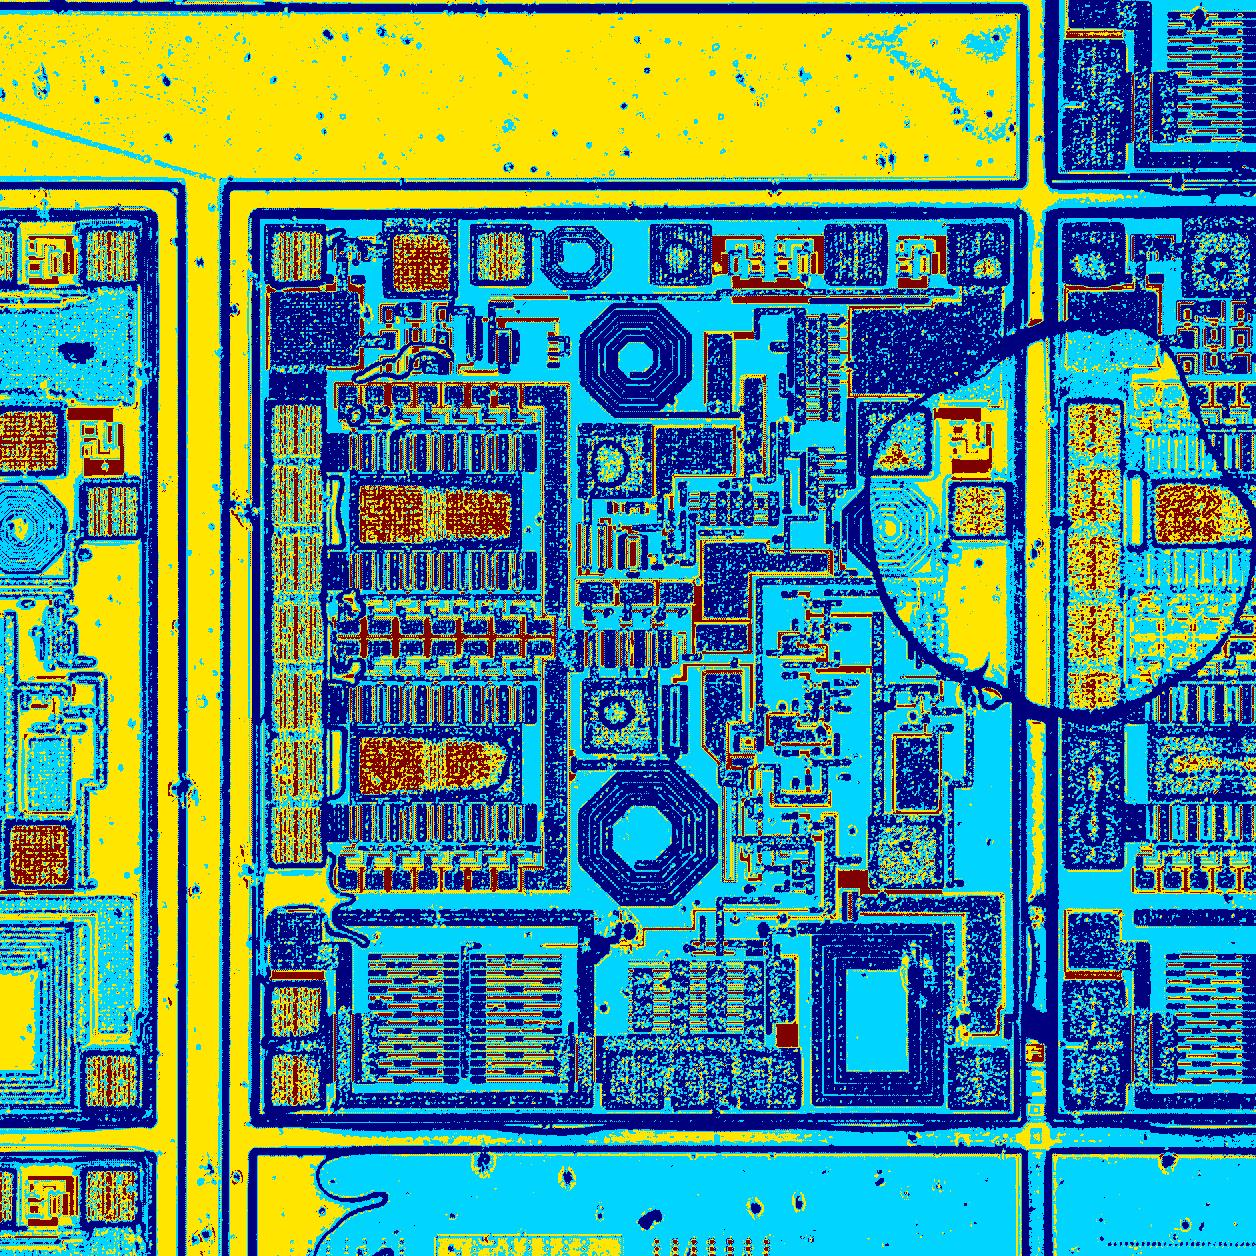Die: (251, 207, 1026, 1127)
Pad 1: (360, 485, 427, 544), (588, 688, 650, 749), (360, 737, 427, 794), (875, 825, 936, 886), (866, 411, 926, 473), (444, 489, 512, 541), (392, 233, 451, 292), (439, 738, 503, 789), (587, 435, 642, 492)
Pad 2: (269, 736, 323, 802), (271, 602, 323, 665), (273, 533, 322, 595), (273, 669, 322, 732), (270, 806, 323, 864), (952, 485, 1009, 538), (271, 465, 322, 523), (828, 231, 882, 282), (271, 404, 321, 459), (955, 1054, 1005, 1106), (952, 231, 1005, 281), (676, 1057, 732, 1104), (271, 231, 322, 282), (271, 987, 322, 1037), (656, 229, 705, 281), (273, 1054, 320, 1106), (745, 1057, 797, 1104), (610, 1056, 658, 1104), (477, 231, 524, 281)
